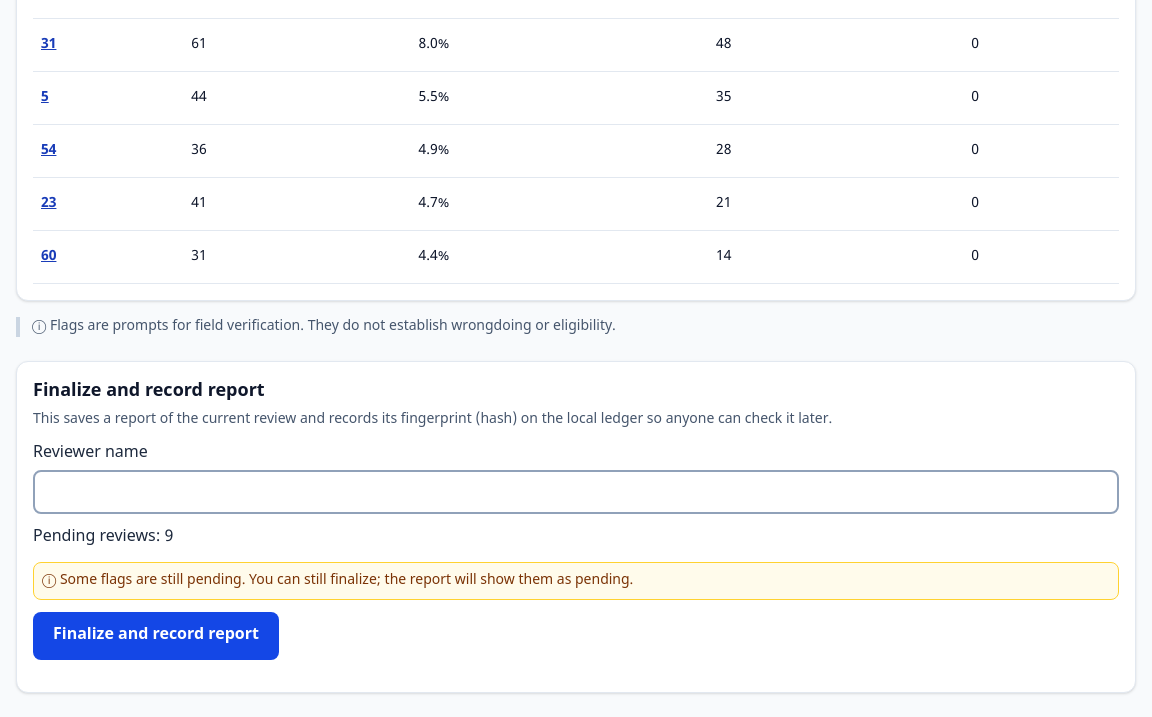
Scenario: FinalizePanel › requires a reviewer name and shows a gentle pending note
(page scrolled)
Expected: the text with test id "finalize-pending" reads "Pending reviews: 9", [33,527,173,548]
Expected: the text "You can still finalize" is shown, [60,571,633,590]
What coordinates should you click on to do the following:
click the button "Finalize and record report"
I would click on:
 (156, 636)
Its box is [33,612,279,660].
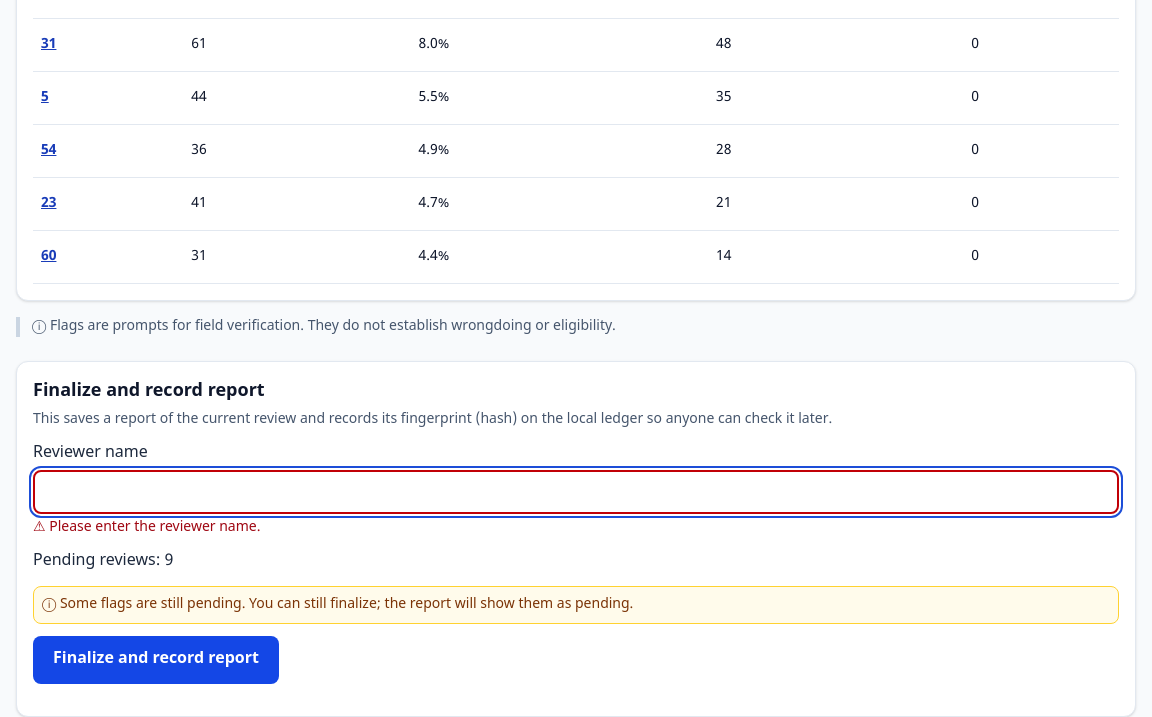
Expected: the text "Please enter the reviewer name." is shown, [49,518,260,537]
